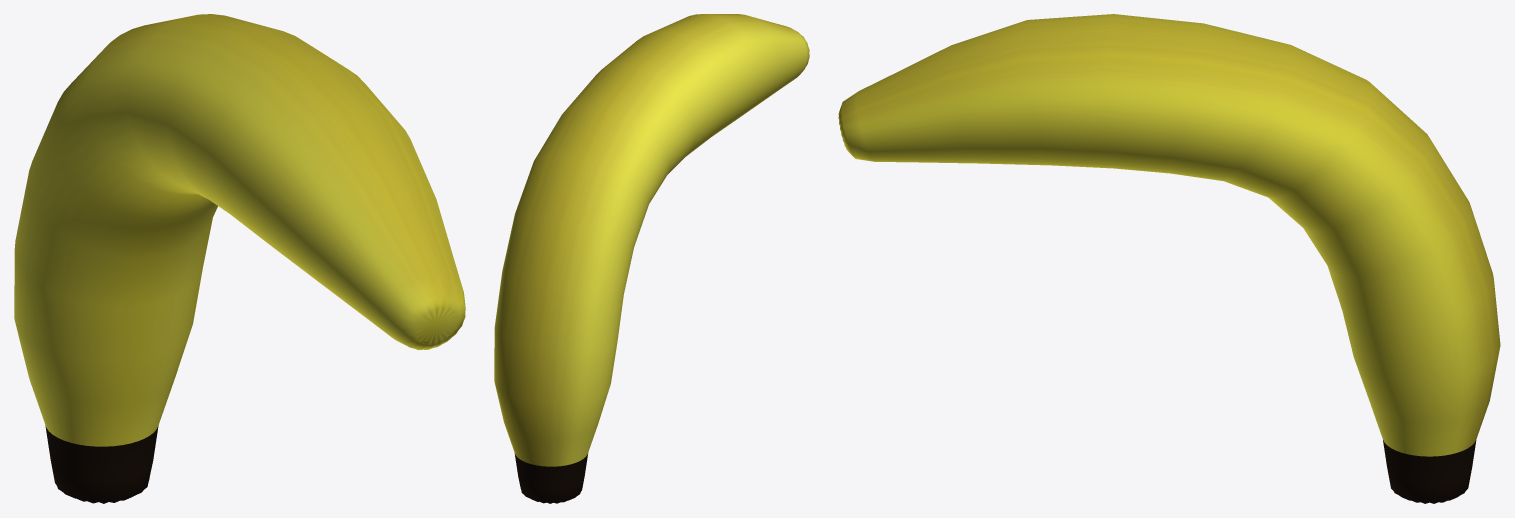
File: banana.obj
3 renders of one model, left to right at view 1: azimuth 30°, elevation 25°; view 2: azimuth 150°, elevation 25°; view 3: azimuth 270°, elevation 25°, orthographic. The views are drawn at different scales.
Visible parts, largest first — view 1: pCylinder1; view 2: pCylinder1; view 3: pCylinder1.
Part boxes in pixels (bbox=[...]): pCylinder1: bbox=[14, 14, 465, 503]; pCylinder1: bbox=[494, 14, 809, 503]; pCylinder1: bbox=[838, 14, 1500, 503].
Size of the model in its own units: 2.22 by 7.04 by 8.97.
